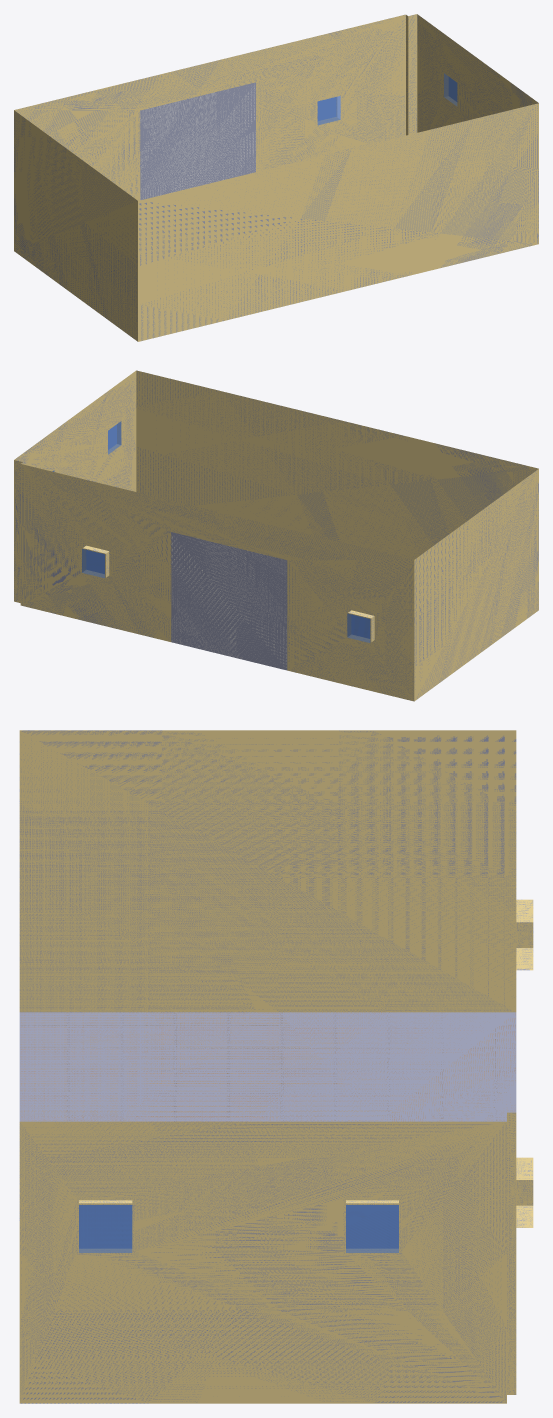
Rendered from CUA001.obj.
3 views of the same model, one above another, from view 1: azimuth 30°, elevation 25°; view 2: azimuth 150°, elevation 25°; view 3: azimuth 270°, elevation 25° (orthographic). The views are drawn at different scales.
Parts seen in each view (by area): view 1: Mesh17 CUA001 Model, Mesh1 Group1 CUA001 Model, Mesh9 Group3 CUA001 Model; view 2: Mesh17 CUA001 Model, Mesh5 Group2 CUA001 Model, Mesh1 Group1 CUA001 Model, Mesh13 Group4 CUA001 Model; view 3: Mesh17 CUA001 Model, Mesh13 Group4 CUA001 Model, Mesh9 Group3 CUA001 Model, Mesh5 Group2 CUA001 Model, Mesh1 Group1 CUA001 Model.
Boxes of the visible parts, x1,y1,x2,y2 form: Mesh17 CUA001 Model: (14, 14, 538, 341); Mesh1 Group1 CUA001 Model: (316, 95, 341, 126); Mesh9 Group3 CUA001 Model: (443, 72, 457, 108); Mesh17 CUA001 Model: (14, 370, 538, 701); Mesh5 Group2 CUA001 Model: (346, 609, 375, 644); Mesh1 Group1 CUA001 Model: (81, 544, 110, 579); Mesh13 Group4 CUA001 Model: (107, 420, 121, 455); Mesh17 CUA001 Model: (19, 730, 516, 1403); Mesh13 Group4 CUA001 Model: (76, 1198, 134, 1255); Mesh9 Group3 CUA001 Model: (343, 1198, 401, 1255); Mesh5 Group2 CUA001 Model: (516, 899, 533, 970); Mesh1 Group1 CUA001 Model: (516, 1157, 533, 1227).
Bounding box in the file's own units: 12.37 × 4.11 × 6.78.
5 materials, 1 textured.
